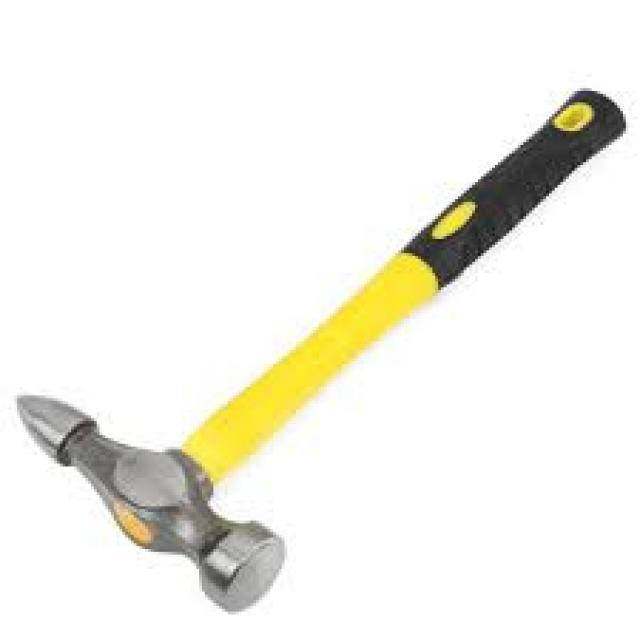hammer: (9, 79, 629, 620)
